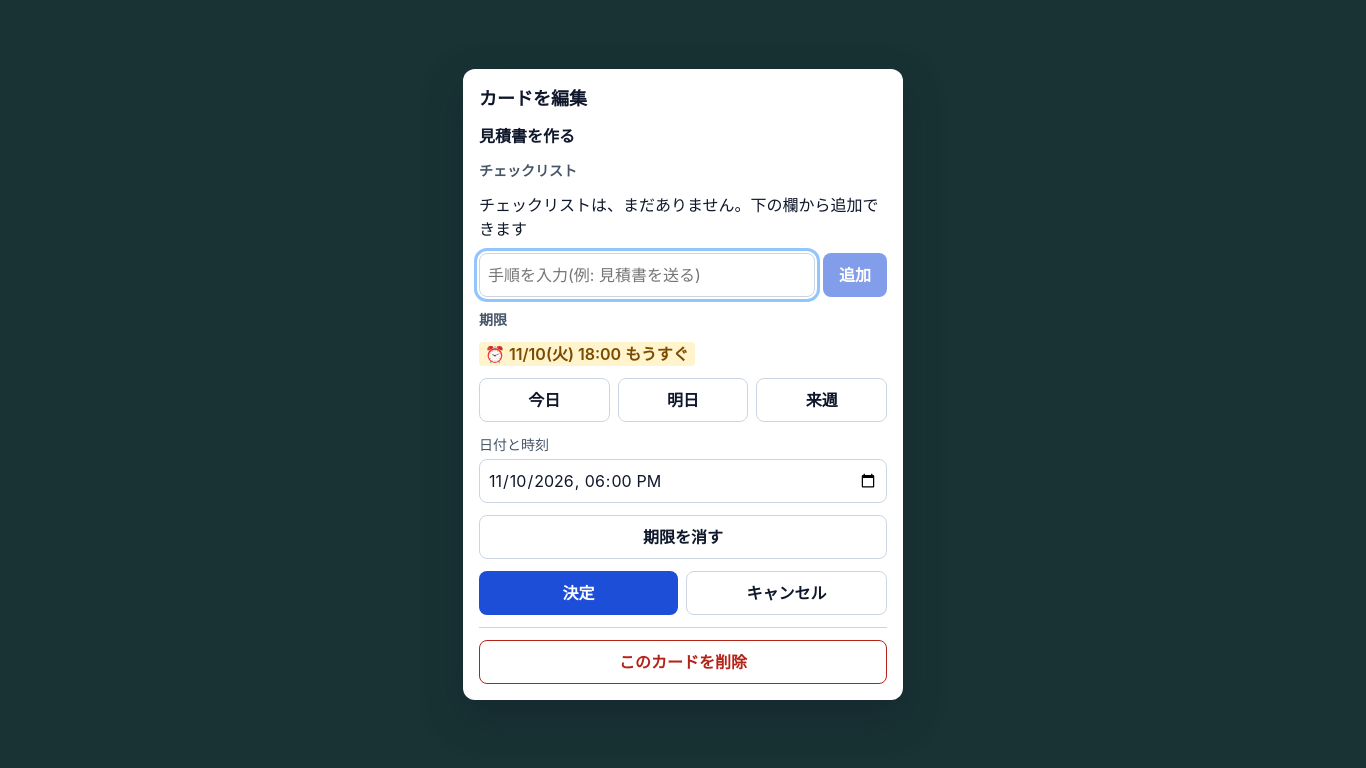
Test: CardEditDialog: 過去の日時 › 過去の日時で「決定」を押すと、確認が出て、まだ保存しない
The image size is (1366, 768).
Replace the text in the field labelled "日付と時刻" with "2026-11-09T09:00". click: (683, 480)
box: x1=479 y1=458 x2=887 y2=502
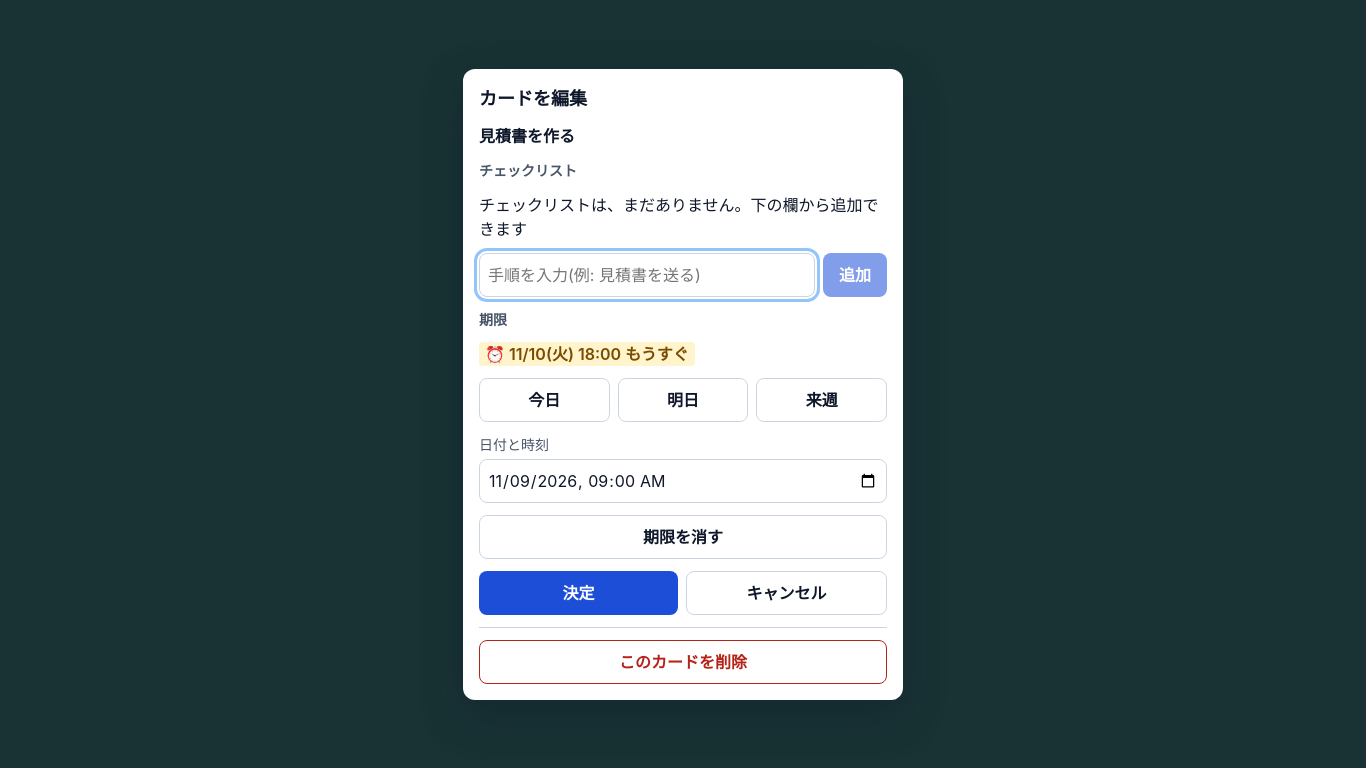
Click the button "決定". click: (578, 592)
box: x1=479 y1=570 x2=678 y2=614
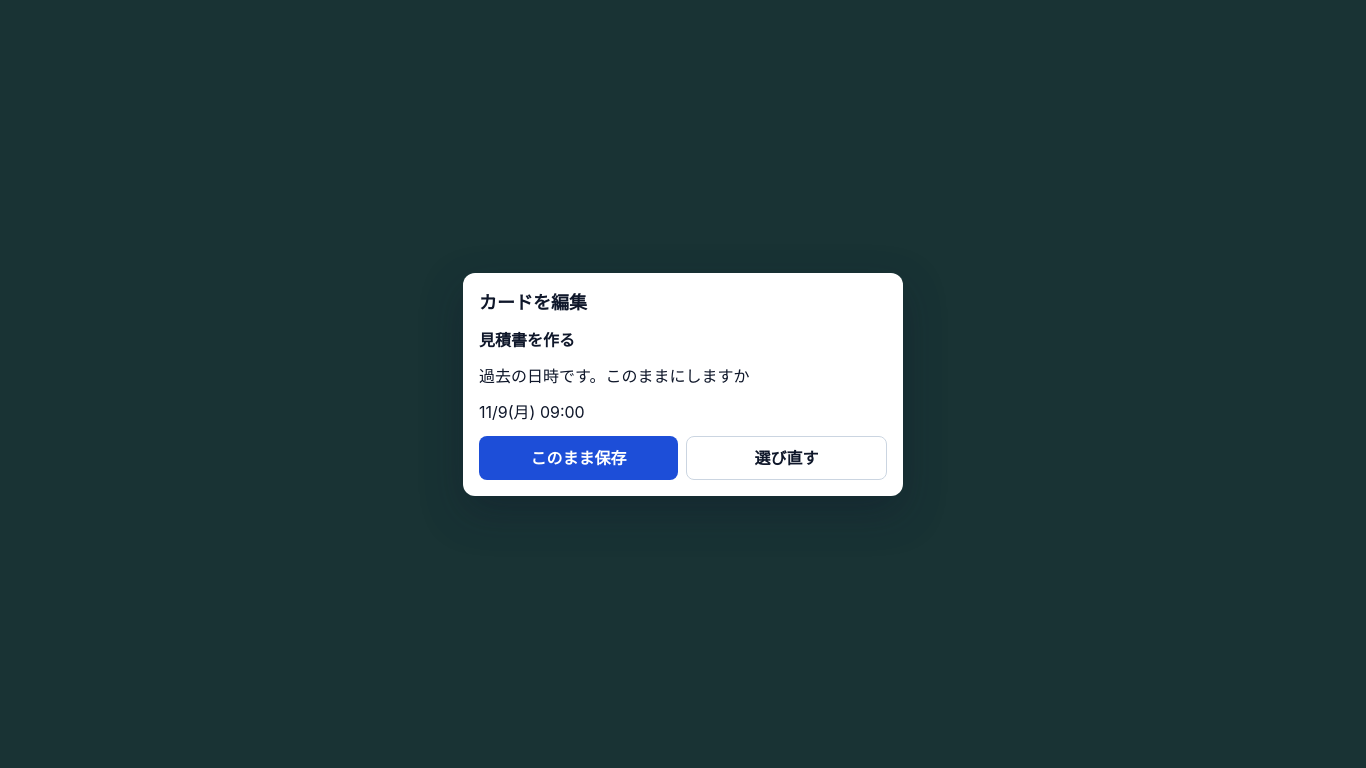
Expected: the message reads "過去の日時です。このままにしますか", x1=479 y1=366 x2=749 y2=386
